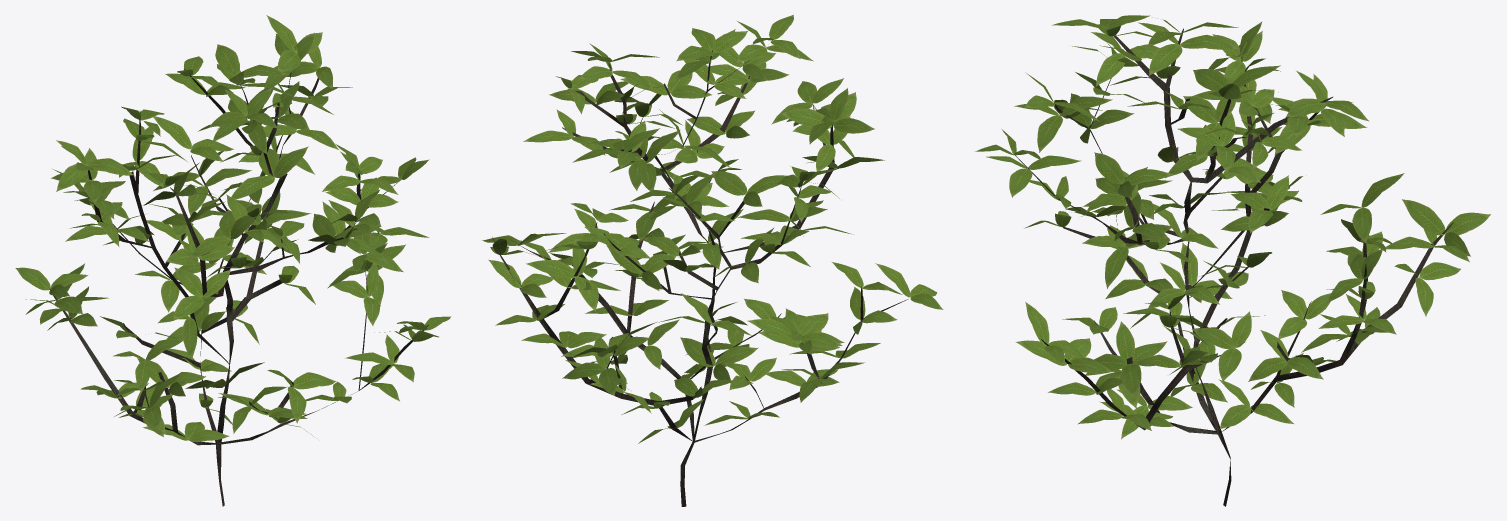
Rendered from blueberryBush_lod0.fbx.
3 views of the same model, side by side, from view 1: azimuth 30°, elevation 25°; view 2: azimuth 150°, elevation 25°; view 3: azimuth 270°, elevation 25° (orthographic). The views are drawn at different scales.
Visible parts, largest first — view 1: blueberryBush_lod0; view 2: blueberryBush_lod0; view 3: blueberryBush_lod0.
Boxes of the visible parts, x1,y1,x2,y2 form: blueberryBush_lod0: (15,15,450,506); blueberryBush_lod0: (482,14,943,506); blueberryBush_lod0: (975,15,1490,506).
Size of the model in its own units: 132 by 147 by 143.
